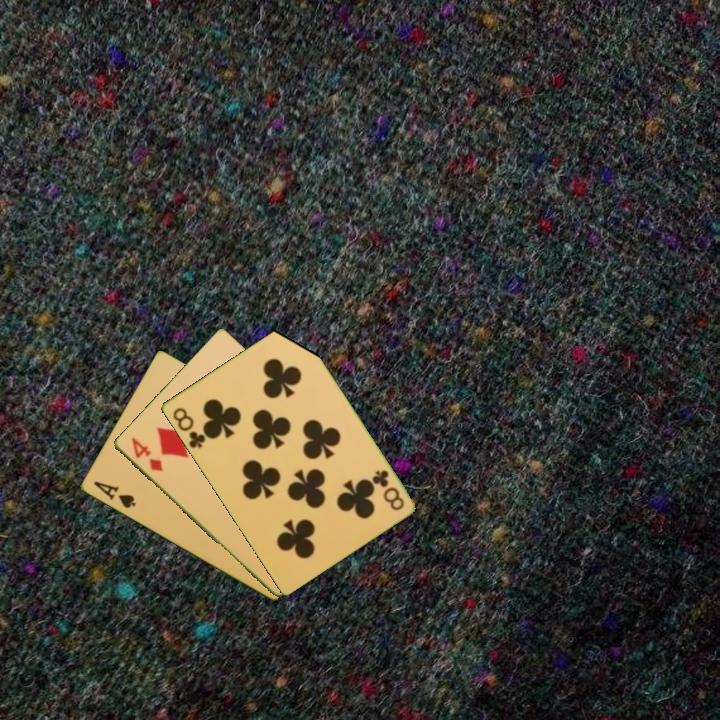4d: (127, 434, 166, 475)
8c: (169, 404, 210, 451), (368, 466, 407, 514)
As: (89, 478, 139, 512)
